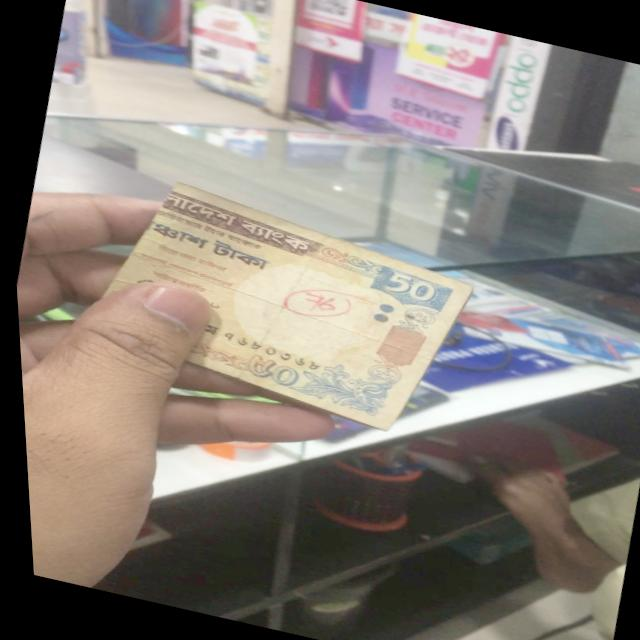Taka: (110, 177, 460, 423)
